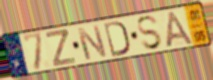7: (22, 30, 45, 73)
A: (166, 11, 195, 49)
D: (103, 19, 131, 58)
N: (75, 23, 109, 62)
S: (136, 14, 165, 52)
Z: (45, 28, 78, 68)
